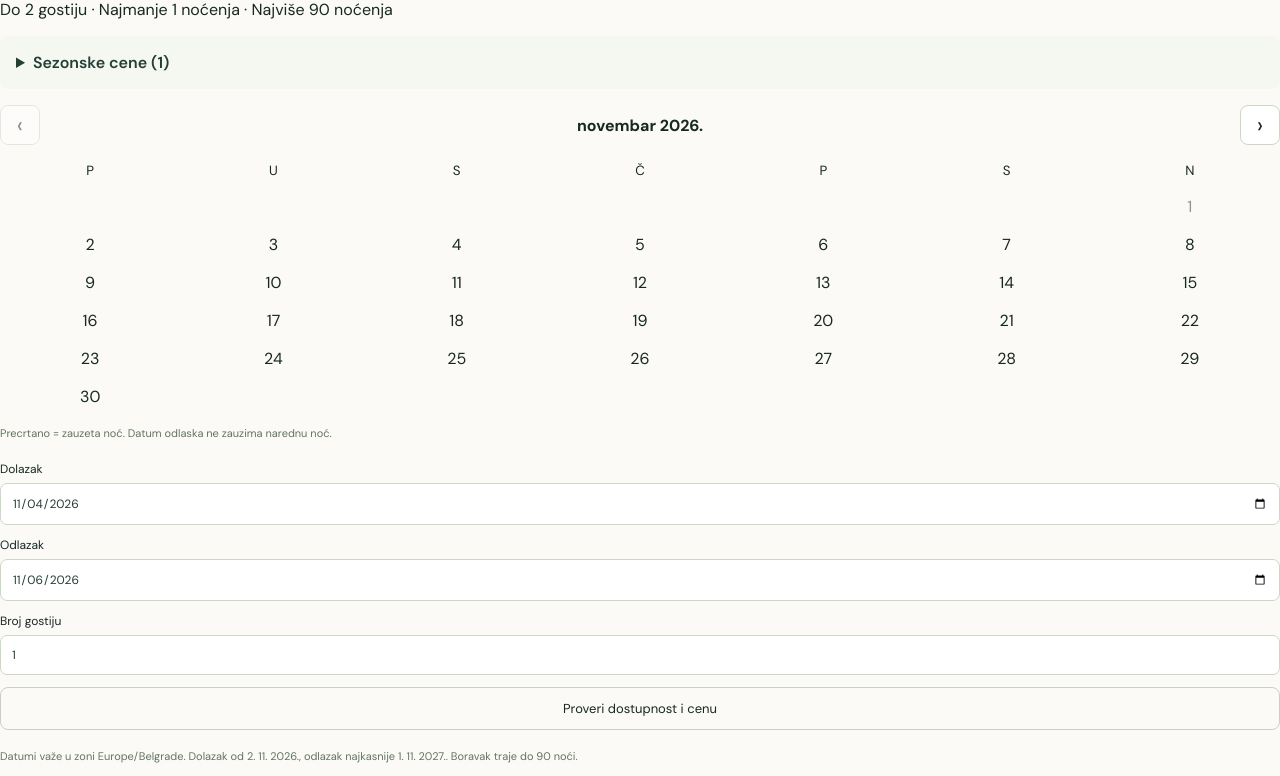
Test: confirms the server's itemized quote and retains its breakdown after booking
The image size is (1280, 776).
(page scrolled)
Click the button "Proveri dostupnost i cenu".
click(640, 708)  # box 0,687 -> 1279,730
(page scrolled)
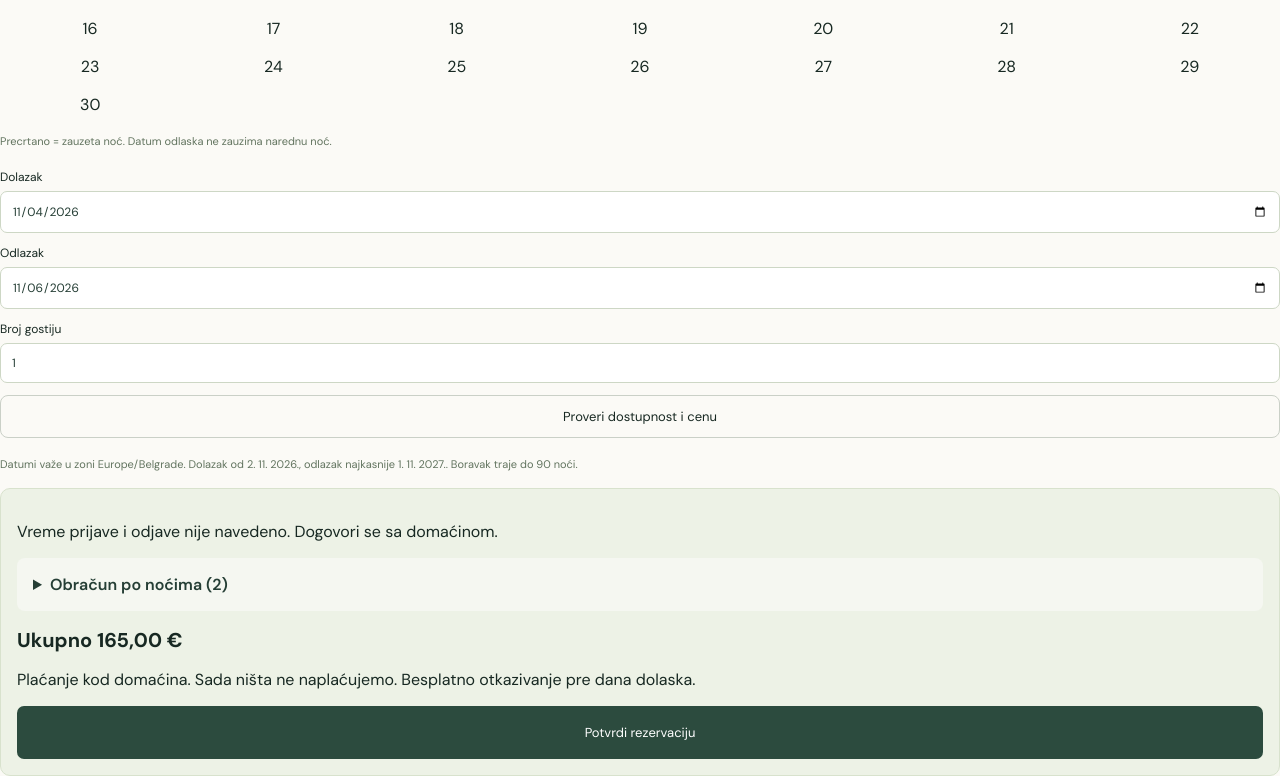
Click the heading "Obračun po noćima (2)".
click(139, 585)  # box 50,574 -> 228,595
(page scrolled)
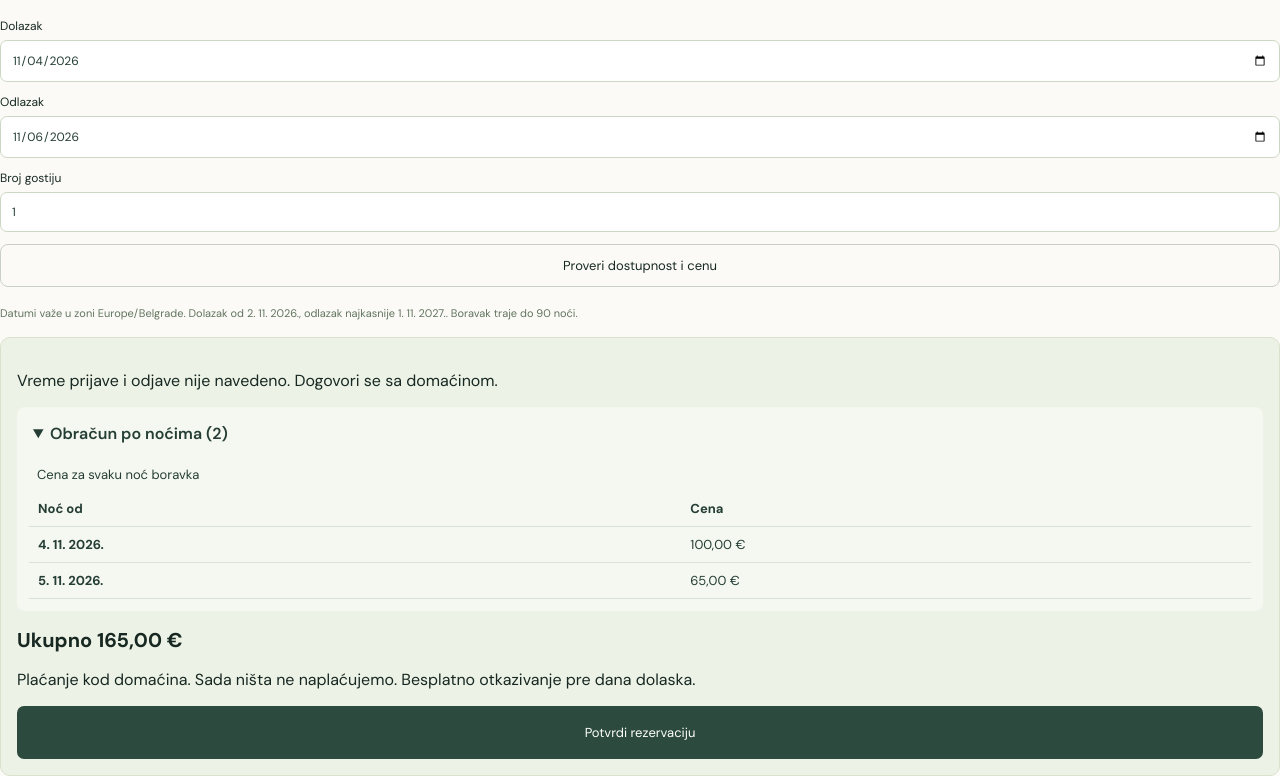
Result: the table shows "100,00" at 690,536 -> 745,553
Result: the table shows "65,00" at 690,572 -> 740,589
Click the button "Potvrdi rezervaciju".
click(640, 733)  # box 17,706 -> 1263,759
(page scrolled)
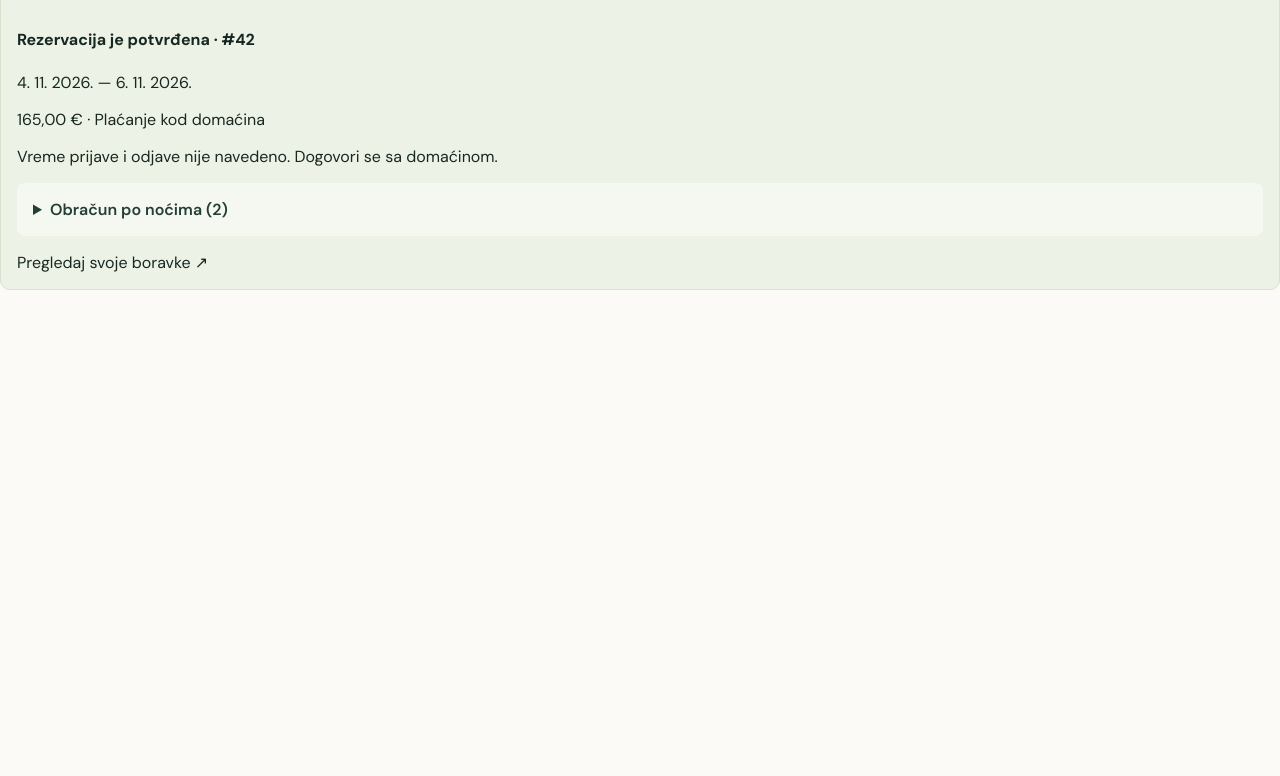
Result: the heading "Obračun po noćima (2)" is shown at 50,198 -> 228,220
Result: the heading "Rezervacija je potvrđena · #42" is shown at 17,29 -> 255,50
